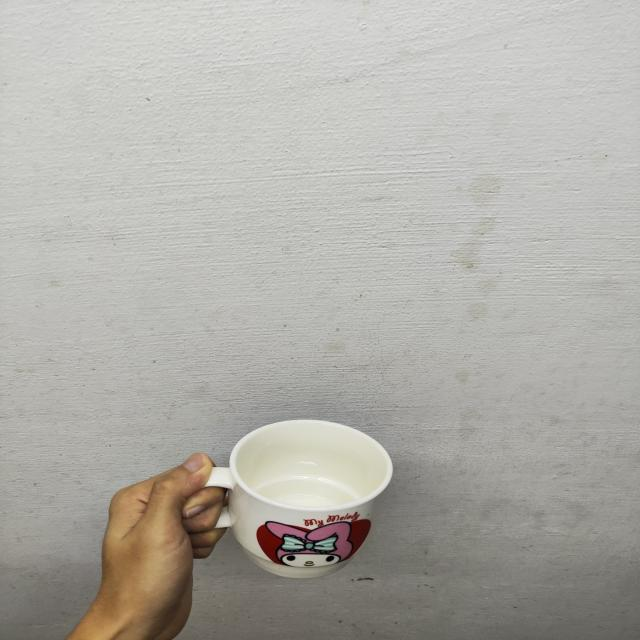cup: (203, 405, 404, 589)
